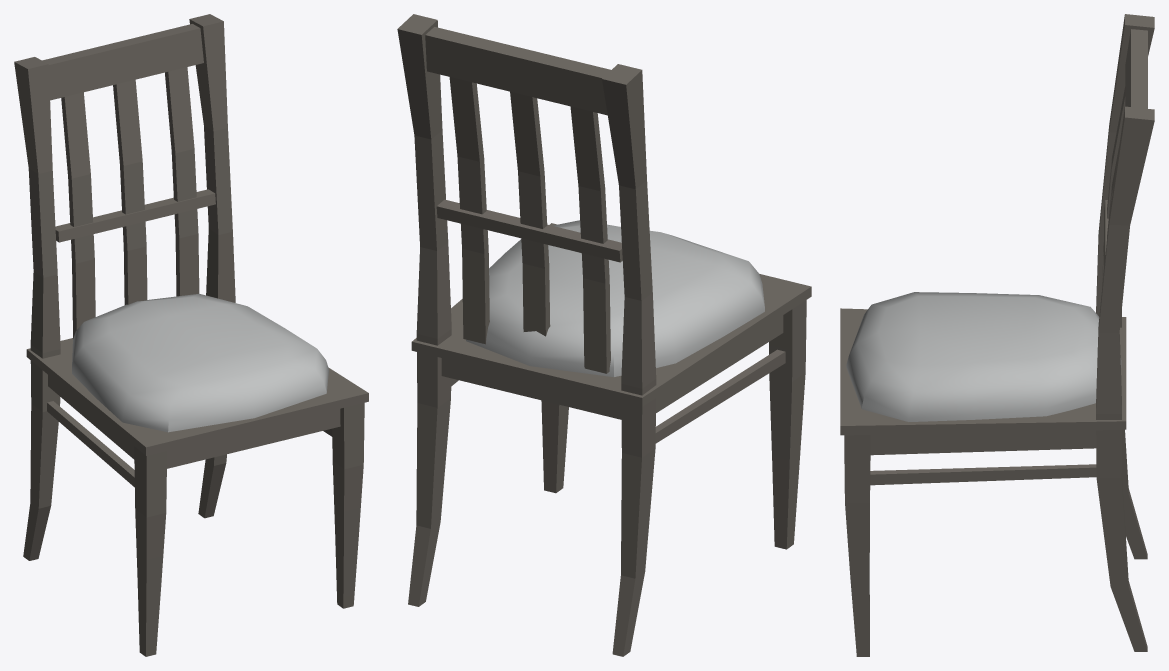
The model's file is pk_chair_cush_grey.glb.
3 renders of one model, left to right at view 1: azimuth 30°, elevation 25°; view 2: azimuth 150°, elevation 25°; view 3: azimuth 270°, elevation 25°, orthographic. The views are drawn at different scales.
Parts seen in each view (by area): view 1: pk_chair_cush_grey; view 2: pk_chair_cush_grey; view 3: pk_chair_cush_grey.
Part boxes in pixels (bbox=[...]): pk_chair_cush_grey: bbox=[14, 14, 368, 656]; pk_chair_cush_grey: bbox=[397, 14, 811, 656]; pk_chair_cush_grey: bbox=[840, 14, 1154, 656].
Size of the model in its own units: 0.46 by 0.98 by 0.52.
Materials: 1 (1 with a texture image).
